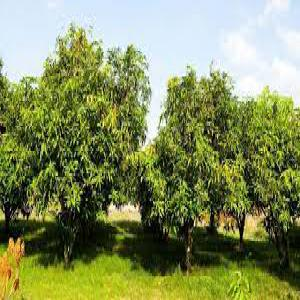Tree: (30, 18, 152, 264), (147, 61, 234, 270), (235, 86, 299, 271)
